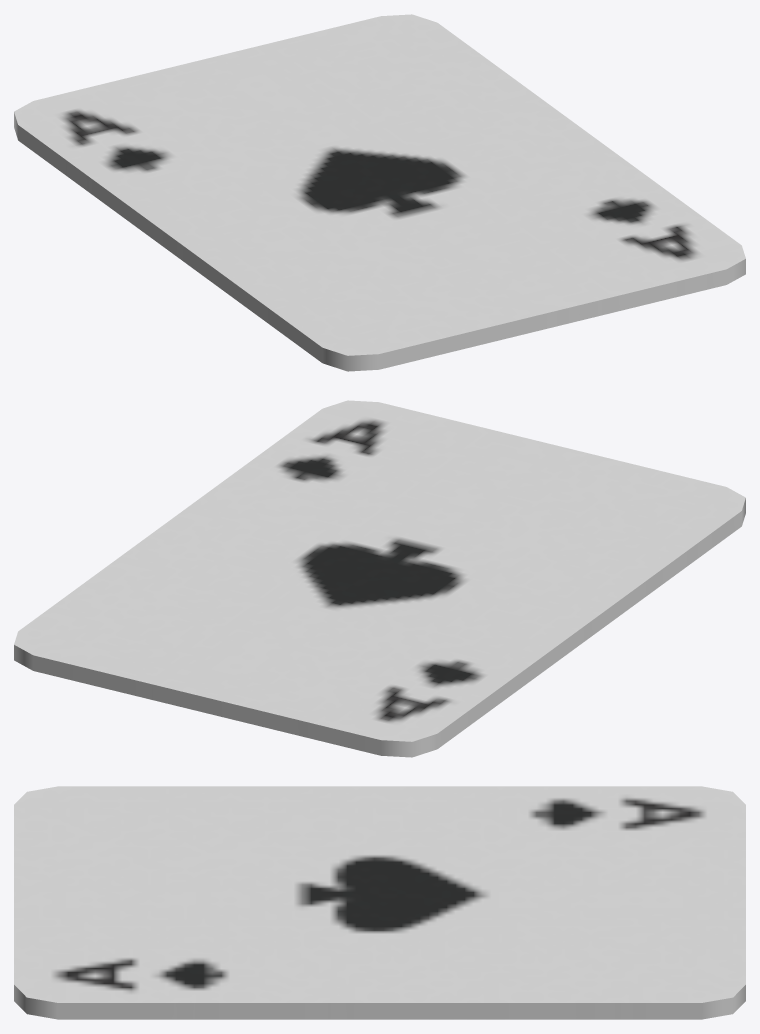
File: baralho_as_espadas_pacote.glb
3 views of the same model, one above another, from view 1: azimuth 30°, elevation 25°; view 2: azimuth 150°, elevation 25°; view 3: azimuth 270°, elevation 25° (orthographic). The views are drawn at different scales.
Visible parts, largest first — view 1: baralho_as_espadas_pacote; view 2: baralho_as_espadas_pacote; view 3: baralho_as_espadas_pacote.
Boxes of the visible parts, x1,y1,x2,y2 form: baralho_as_espadas_pacote: (14,14,745,371); baralho_as_espadas_pacote: (14,400,745,757); baralho_as_espadas_pacote: (14,786,745,1019).
Size of the model in its own units: 0.0617 by 0.00221 by 0.0882.
1 material, 1 textured.
